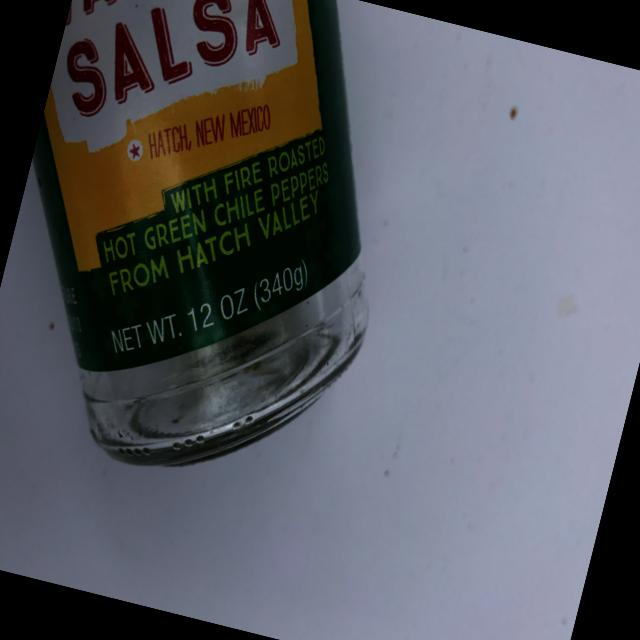Glass: (0, 0, 469, 534)
